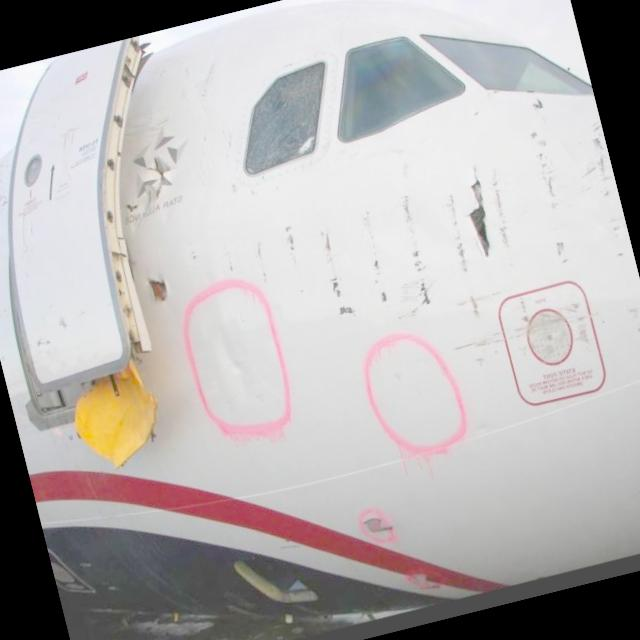crack: (451, 156, 503, 266), (140, 264, 176, 308)
dent: (208, 322, 260, 387)
